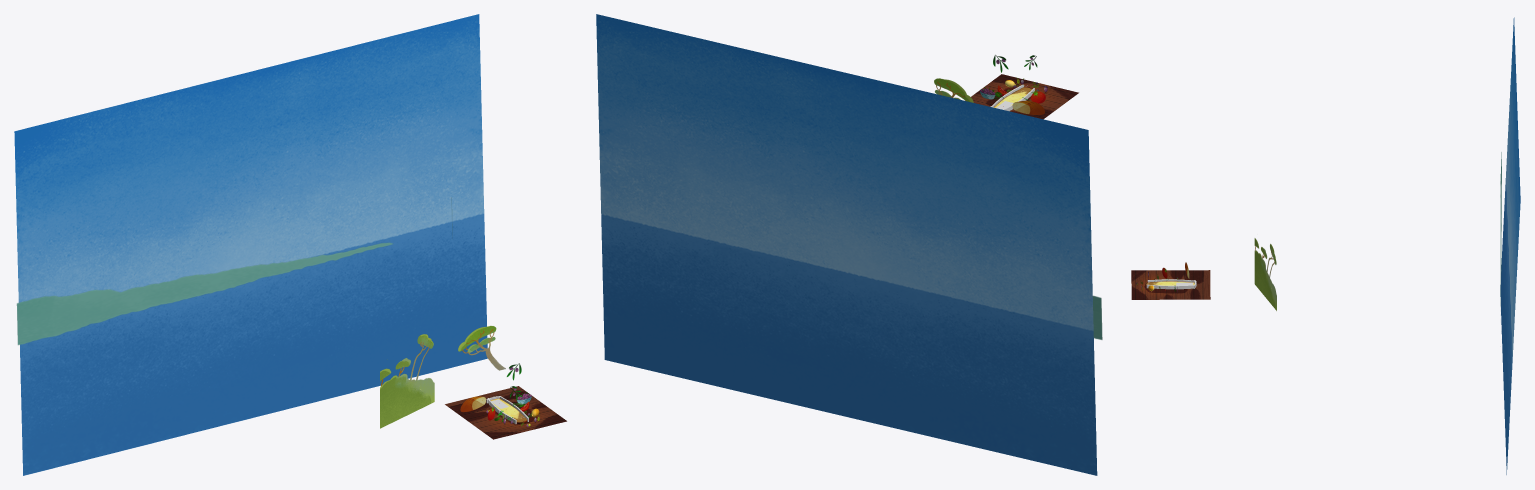
File: ptq_ecs.glb
3 renders of one model, left to right at view 1: azimuth 30°, elevation 25°; view 2: azimuth 150°, elevation 25°; view 3: azimuth 270°, elevation 25°, orthographic. The views are drawn at different scales.
Parts seen in each view (by area): view 1: background, Plane.004, tree2, ground, tree1; view 2: background, ground; view 3: background, ground, tree2.
Part boxes in pixels (x1=…): background: x1=14, y1=14, x2=487, y2=475; Plane.004: x1=16, y1=198, x2=452, y2=345; tree2: x1=380, y1=334, x2=434, y2=428; ground: x1=445, y1=386, x2=566, y2=439; tree1: x1=458, y1=326, x2=505, y2=370; background: x1=596, y1=14, x2=1097, y2=475; ground: x1=971, y1=74, x2=1078, y2=119; background: x1=1500, y1=17, x2=1520, y2=474; ground: x1=1131, y1=270, x2=1210, y2=299; tree2: x1=1254, y1=238, x2=1276, y2=310.
Bounding box in the file's own units: 111 × 75.95 × 97.24.
Materials: 37 (37 with a texture image).
